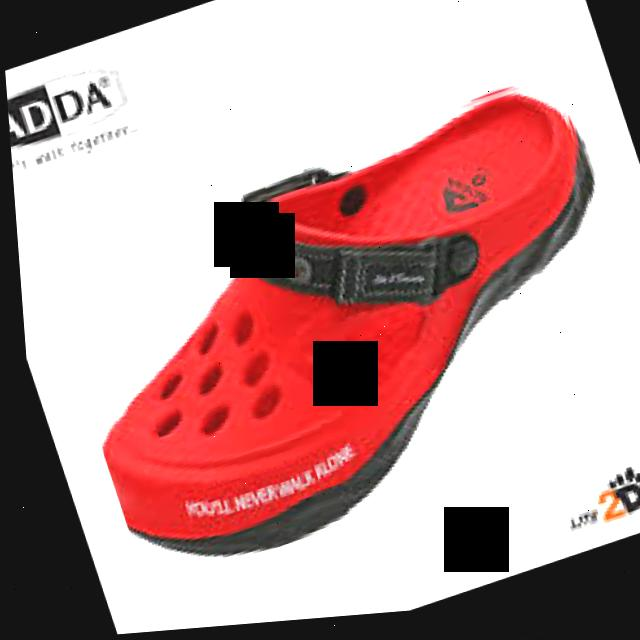shoe: (21, 69, 640, 598)
